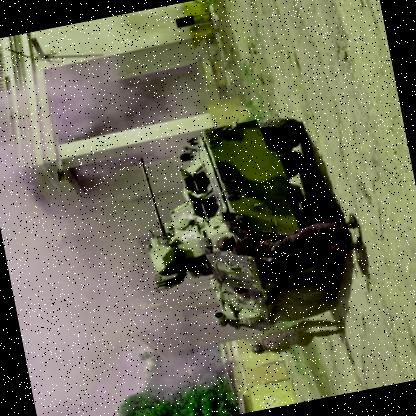rifle: (216, 199, 253, 235)
